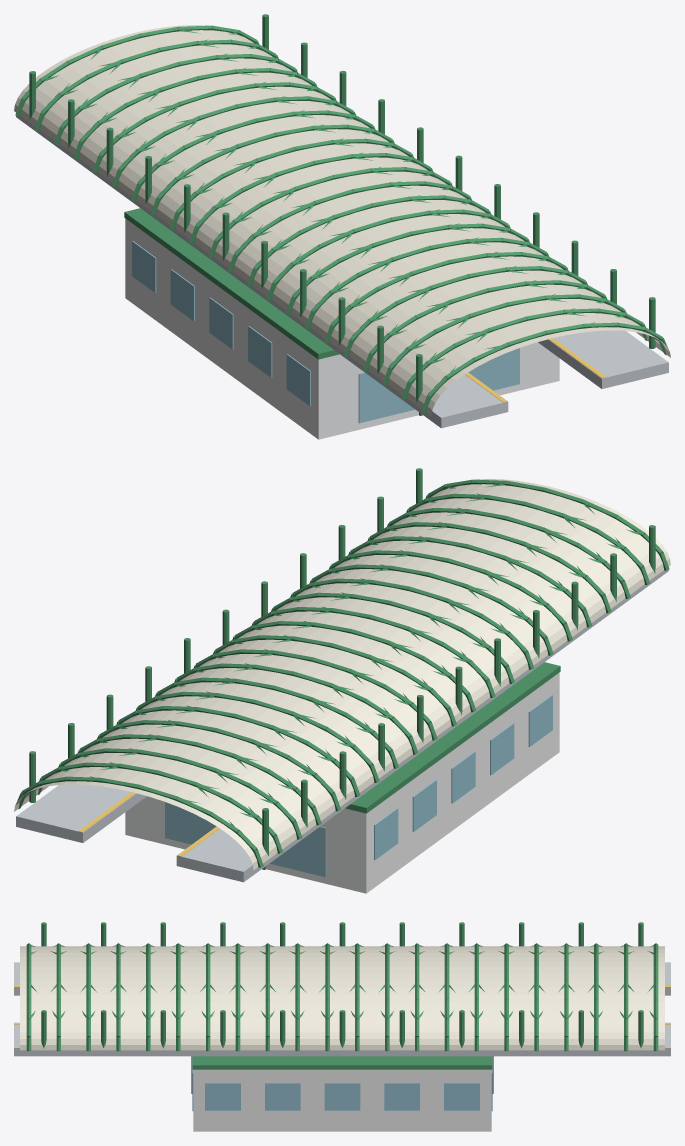
File: sn_station.glb
3 views of the same model, one above another, from view 1: azimuth 30°, elevation 25°; view 2: azimuth 150°, elevation 25°; view 3: azimuth 270°, elevation 25° (orthographic). The views are drawn at different scales.
Visible parts, largest first — view 1: sn_station; view 2: sn_station; view 3: sn_station.
Boxes of the visible parts, <box> form: sn_station: <box>14,14,670,439</box>; sn_station: <box>14,468,670,893</box>; sn_station: <box>14,922,670,1131</box>.
Bounding box in the file's own units: 3714 × 2248 × 11000.
